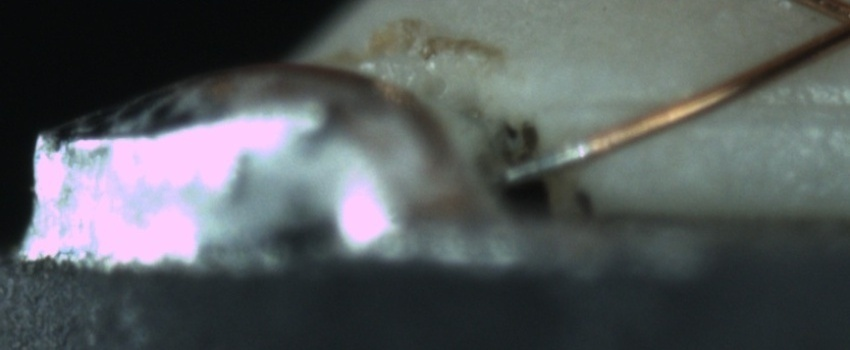DL: (573, 69, 846, 139)
TS: (497, 140, 591, 185)
